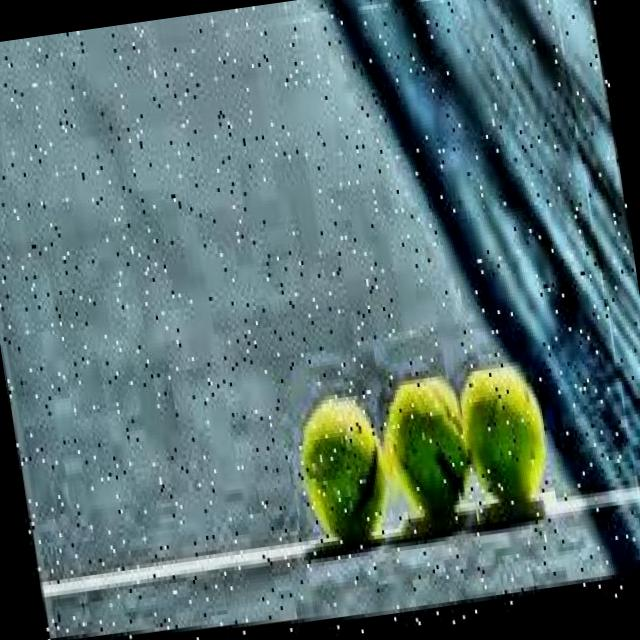Tennis Ball: (452, 362, 559, 536), (374, 376, 479, 550), (290, 390, 398, 558)
